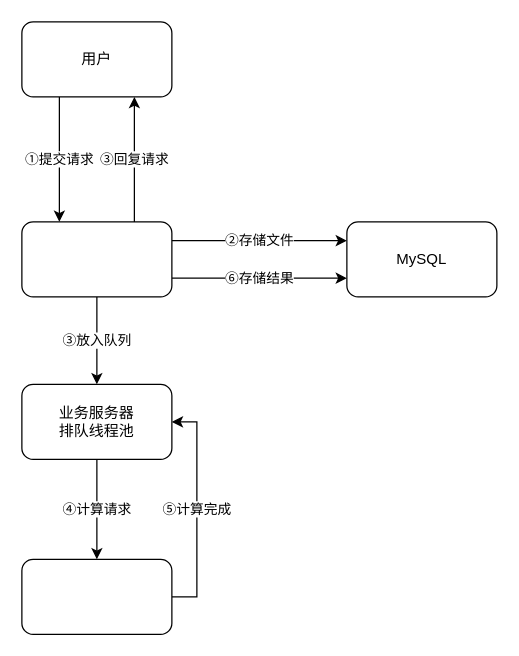
The diagram is 519 pixels wide and 656 high, and some of its shapes have lost their labels. Here are the shapes that lost their labels. From the top down, the box of each, then its label:
(21, 221, 172, 297): 业务服务器
(21, 558, 172, 634): 算法服务器
